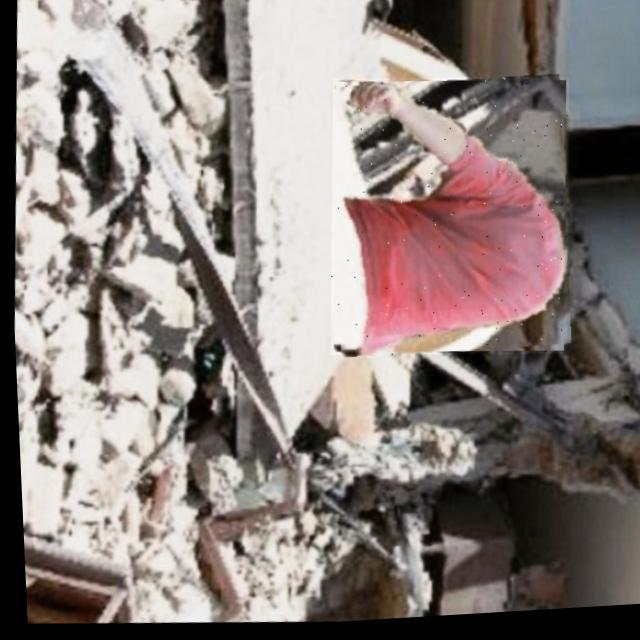Person in Rubble: (316, 72, 576, 371)
